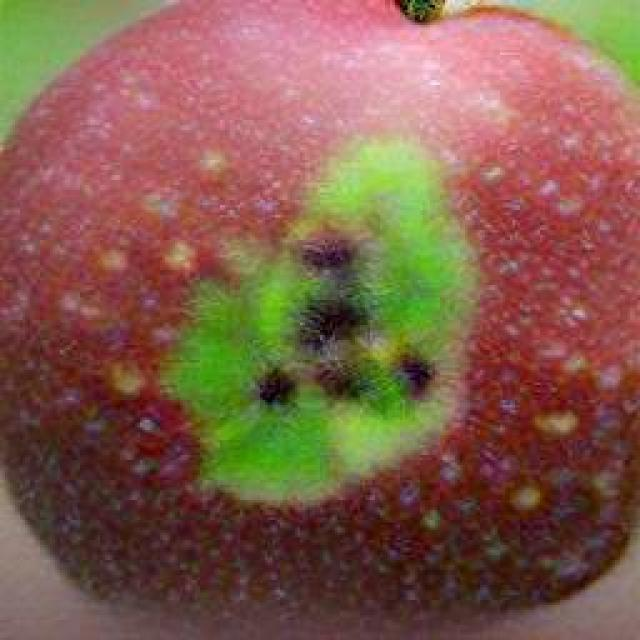defective: (0, 0, 638, 620)
